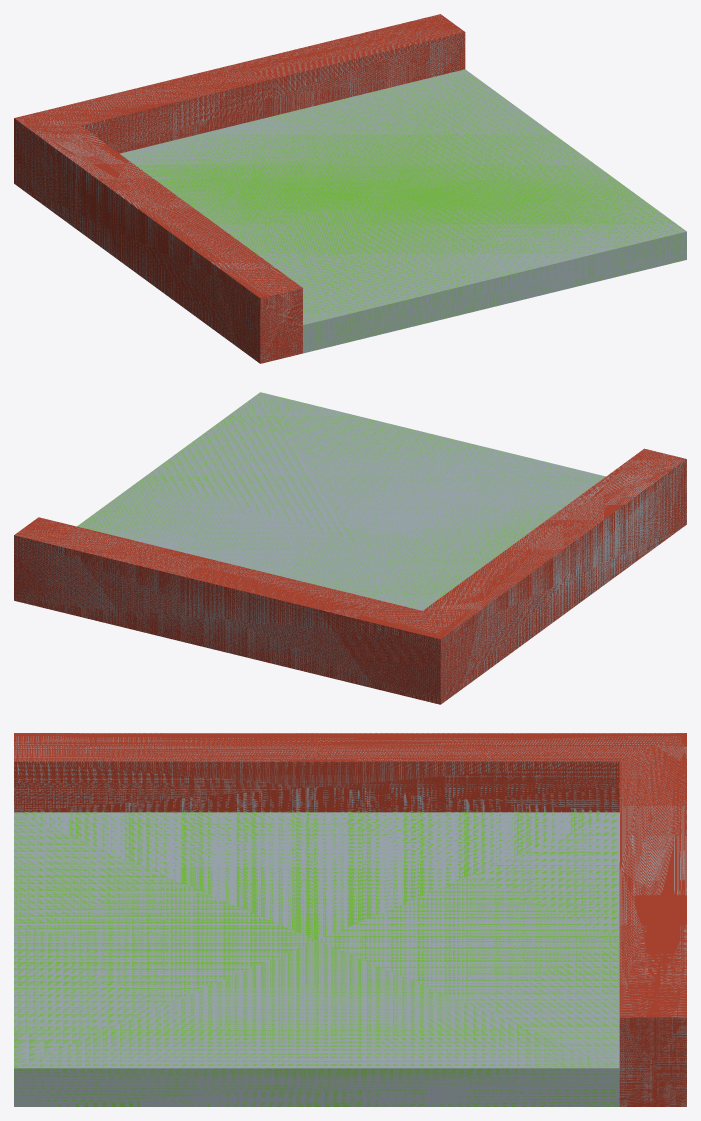
The model's file is Corner_01.fbx.
3 renders of one model, top to bottom at view 1: azimuth 30°, elevation 25°; view 2: azimuth 150°, elevation 25°; view 3: azimuth 270°, elevation 25°, orthographic. The views are drawn at different scales.
Parts seen in each view (by area): view 1: Mesh1_Corner Model; view 2: Mesh1_Corner Model; view 3: Mesh1_Corner Model.
Boxes of the visible parts, <box> form: Mesh1_Corner Model: <box>14,14,686,363</box>; Mesh1_Corner Model: <box>14,392,686,704</box>; Mesh1_Corner Model: <box>14,733,686,1106</box>.
Size of the model in its own units: 3 by 0.44 by 3.
